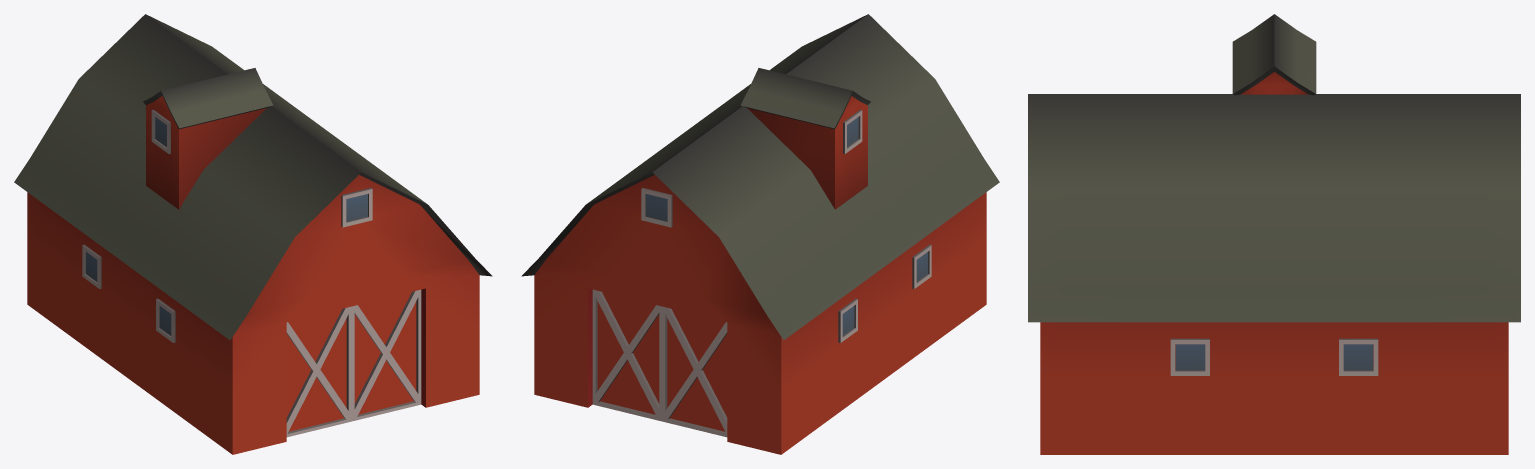
File: Farm_Barn.glb
The picture shows the model from 3 angles, left to right: view 1: azimuth 30°, elevation 25°; view 2: azimuth 150°, elevation 25°; view 3: azimuth 270°, elevation 25°; orthographic projection. The views are drawn at different scales.
Visible parts, largest first — view 1: base.002, reflWindow; view 2: base.002, reflWindow; view 3: base.002, reflWindow.
Part boxes in pixels (<box>): base.002: <box>14,14,492,454</box>; reflWindow: <box>86,117,367,335</box>; base.002: <box>521,14,999,454</box>; reflWindow: <box>646,117,927,335</box>; base.002: <box>1028,14,1520,454</box>; reflWindow: <box>1175,344,1373,370</box>.
Size of the model in its own units: 13.56 by 13.88 by 19.32.
